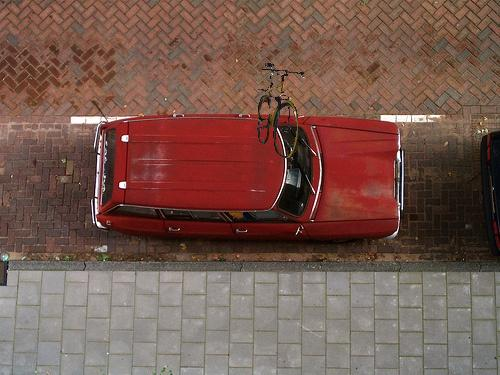tampered: (257, 64, 320, 158)
